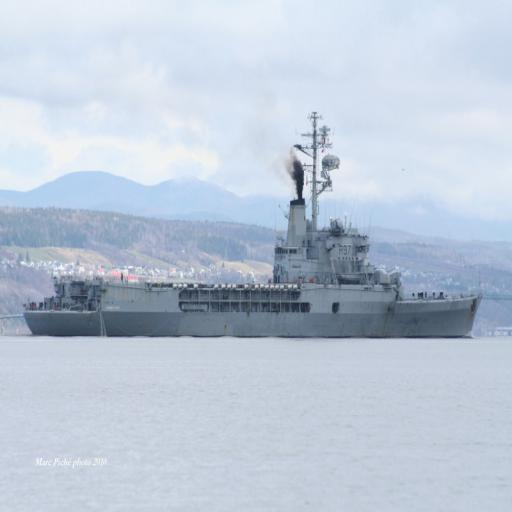Portanaves: (22, 110, 486, 340)
